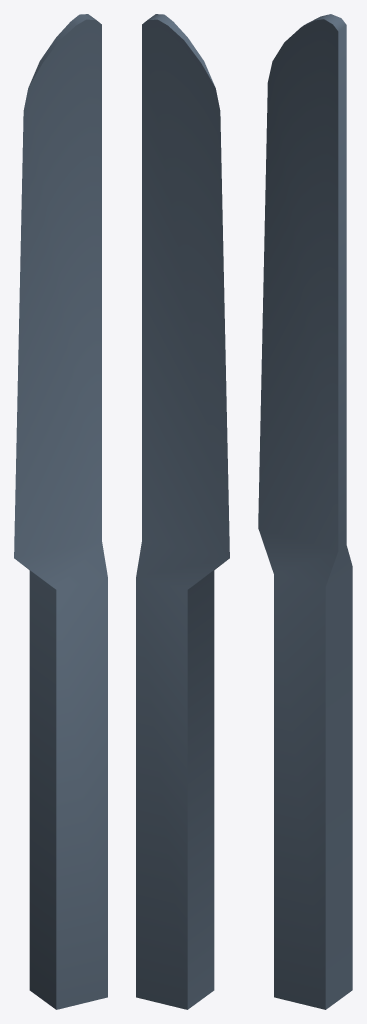
The model's file is Knife.fbx.
The picture shows the model from 3 angles, left to right: view 1: azimuth 30°, elevation 25°; view 2: azimuth 150°, elevation 25°; view 3: azimuth 330°, elevation 25°; orthographic projection.
Visible parts, largest first — view 1: Knife; view 2: Knife; view 3: Knife.
Boxes of the visible parts, x1,y1,x2,y2 form: Knife: (14, 14, 107, 1009); Knife: (136, 14, 229, 1009); Knife: (258, 14, 352, 1009).
Size of the model in its own units: 0.018 by 0.2 by 0.01.
